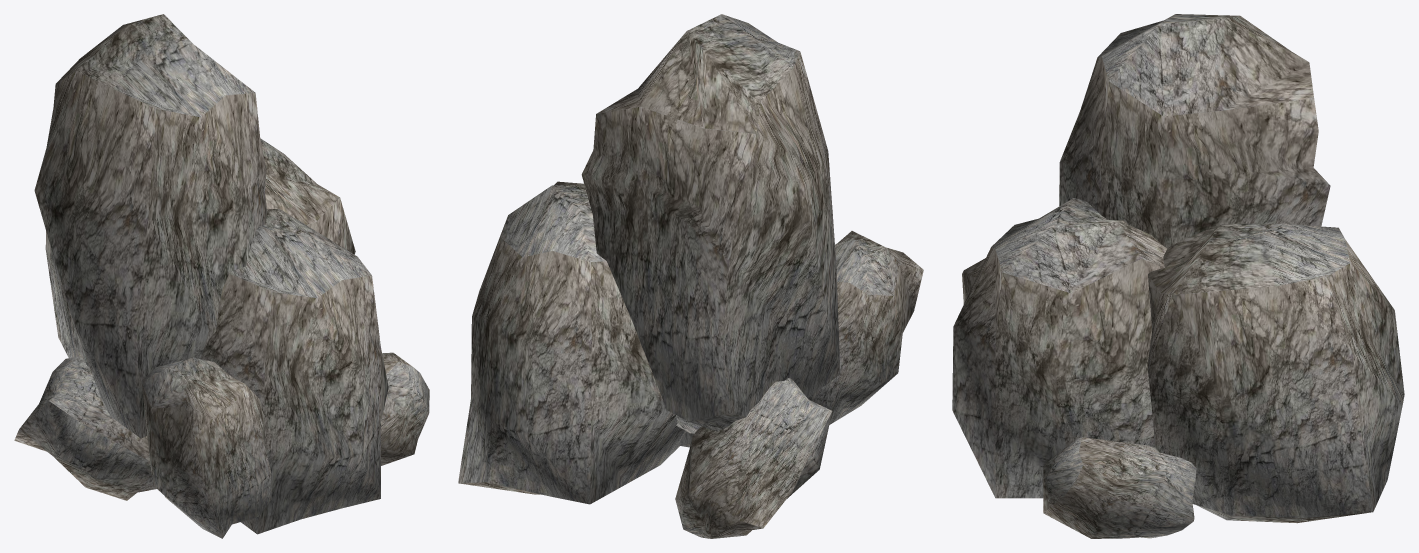
The model's file is piedras_conjunto01.fbx.
The picture shows the model from 3 angles, left to right: view 1: azimuth 30°, elevation 25°; view 2: azimuth 150°, elevation 25°; view 3: azimuth 270°, elevation 25°; orthographic projection. The views are drawn at different scales.
Visible parts, largest first — view 1: Cubo_1, Cubo, Cubo_3, Cubo_5, Cubo_2, Cubo_4; view 2: Cubo_1, Cubo_2, Cubo_5, Cubo_3; view 3: Cubo_2, Cubo_1, Cubo, Cubo_4.
Part boxes in pixels (x1,y1,x2,y2): Cubo_1: [34, 14, 267, 438]; Cubo: [201, 209, 388, 534]; Cubo_3: [141, 357, 271, 538]; Cubo_5: [14, 356, 156, 500]; Cubo_2: [260, 138, 355, 254]; Cubo_4: [381, 352, 429, 465]; Cubo_1: [581, 14, 840, 433]; Cubo_2: [458, 181, 686, 504]; Cubo_5: [675, 377, 832, 538]; Cubo_3: [808, 231, 923, 424]; Cubo_2: [1148, 223, 1404, 523]; Cubo_1: [1059, 14, 1330, 247]; Cubo: [952, 198, 1167, 498]; Cubo_4: [1043, 437, 1196, 538].
Size of the model in its own units: 364 by 517 by 439.
1 material, 1 textured.
